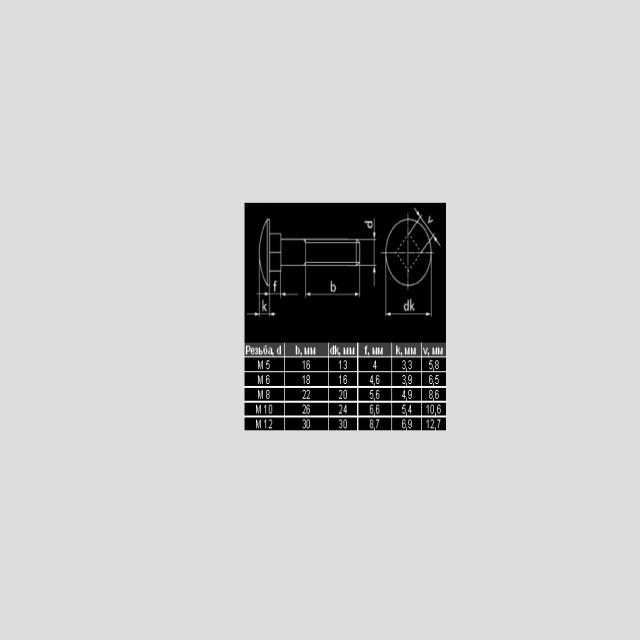marking_line: (304, 266, 361, 299), (384, 287, 432, 320), (247, 287, 276, 318), (256, 286, 298, 297), (361, 262, 377, 289), (361, 217, 378, 241), (425, 268, 433, 318), (432, 233, 442, 250), (414, 206, 422, 221)
numeric: (360, 218, 377, 287), (436, 418, 441, 430), (306, 359, 311, 370), (343, 389, 348, 400), (343, 419, 348, 430), (343, 359, 348, 370), (375, 374, 380, 385), (369, 389, 374, 400), (375, 389, 380, 400), (407, 359, 412, 370), (435, 389, 440, 400), (266, 389, 271, 399), (268, 419, 273, 429), (302, 389, 307, 399), (338, 404, 343, 414), (343, 374, 348, 384), (369, 404, 374, 414), (408, 389, 413, 399), (429, 360, 434, 370), (435, 359, 440, 369), (435, 374, 440, 384), (437, 404, 442, 414), (430, 404, 434, 416), (266, 374, 270, 385), (306, 418, 310, 429), (408, 374, 412, 385), (402, 404, 406, 415), (306, 375, 310, 385), (302, 404, 306, 414), (343, 404, 347, 414), (373, 359, 377, 369), (376, 404, 380, 414), (375, 419, 379, 429), (369, 419, 373, 429), (402, 360, 406, 370), (402, 375, 406, 385), (408, 405, 412, 415), (402, 419, 406, 429), (408, 419, 412, 429), (429, 390, 433, 400), (431, 419, 435, 429), (266, 361, 270, 370), (306, 390, 310, 399), (306, 405, 310, 414), (302, 420, 306, 429), (338, 390, 342, 399), (370, 373, 373, 385), (429, 376, 433, 385), (264, 419, 267, 430), (426, 404, 429, 415), (269, 404, 272, 414), (302, 360, 305, 370), (302, 375, 305, 385), (339, 419, 342, 429), (426, 419, 429, 429), (402, 390, 405, 399), (339, 374, 341, 385), (264, 404, 266, 414), (339, 360, 341, 370)
